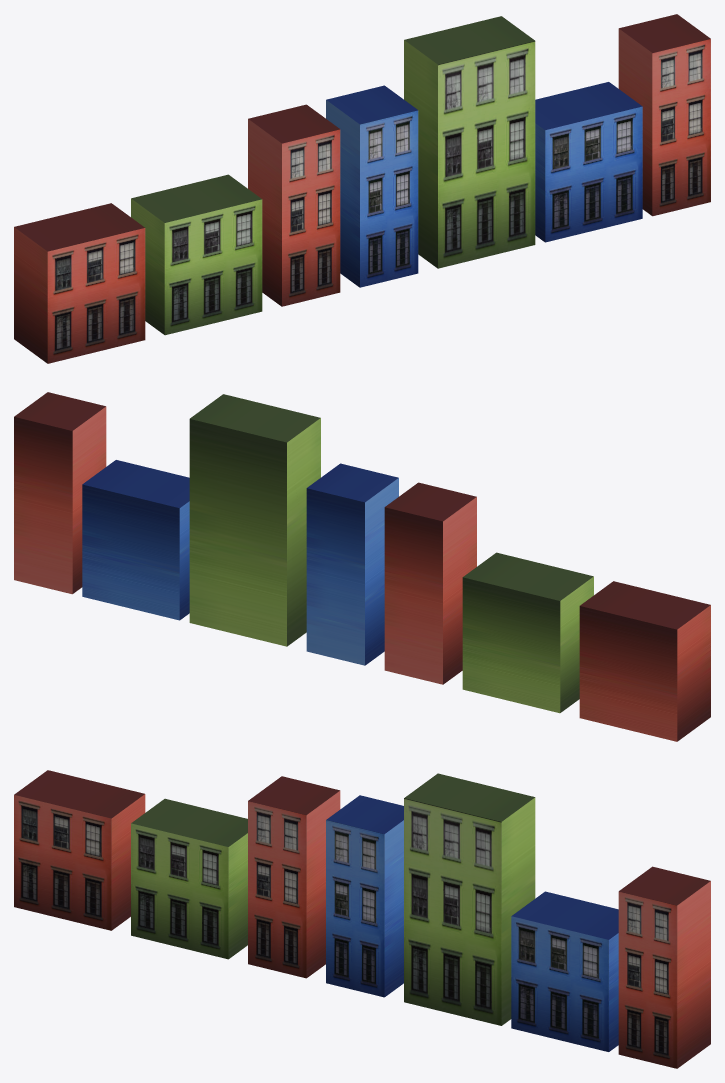
Rendered from Buildings.fbx.
3 views of the same model, one above another, from view 1: azimuth 30°, elevation 25°; view 2: azimuth 150°, elevation 25°; view 3: azimuth 330°, elevation 25° (orthographic).
Parts seen in each view (by area): view 1: Edificios; view 2: Edificios; view 3: Edificios.
Part boxes in pixels (bbox=[...]): Edificios: bbox=[14, 14, 710, 363]; Edificios: bbox=[14, 392, 710, 741]; Edificios: bbox=[14, 770, 710, 1068].
Size of the model in its own units: 2000 by 600 by 6800.
